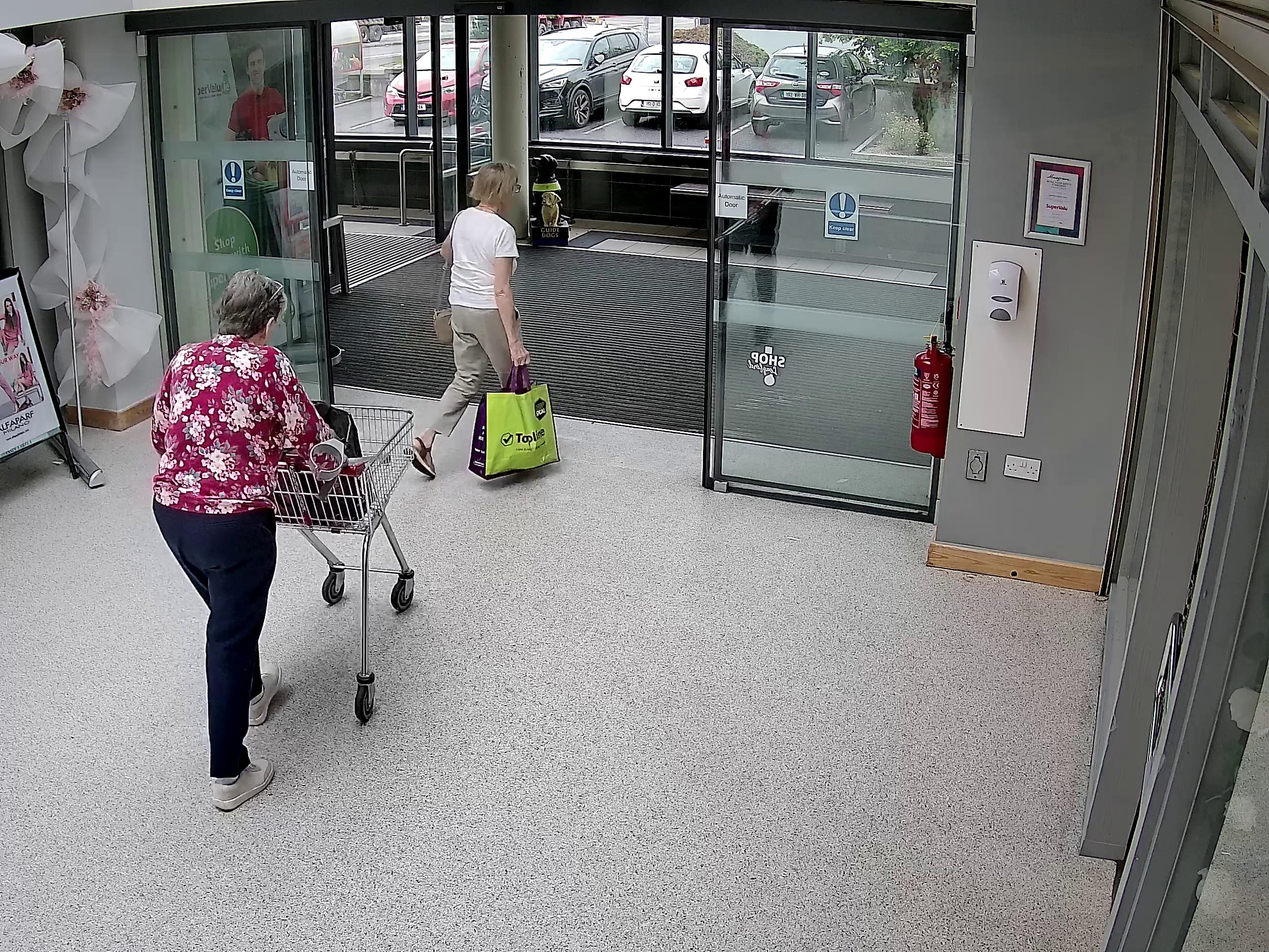backpack-or-handbag: (432, 309, 456, 345)
filled-shopping-bags: (468, 367, 561, 481)
filled-trolly: (271, 399, 414, 722)
person: (153, 272, 334, 813), (403, 163, 530, 478)
person-with-backpack-handbag-and-shopping-bag-s-: (403, 161, 561, 480)
person-with-filled-basket-trolly: (153, 272, 415, 815)
